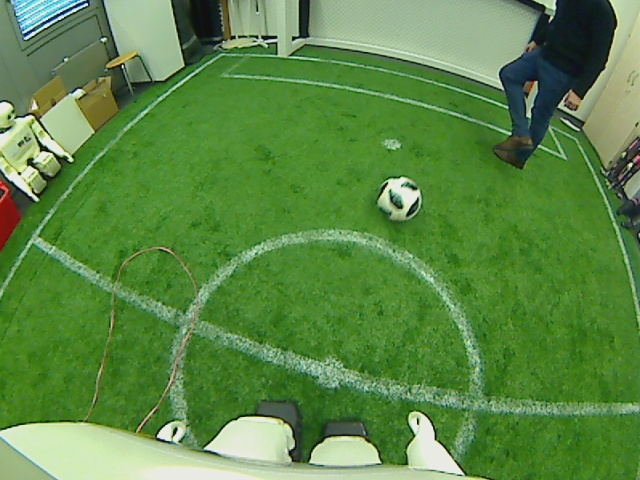ball: (375, 175, 424, 222)
